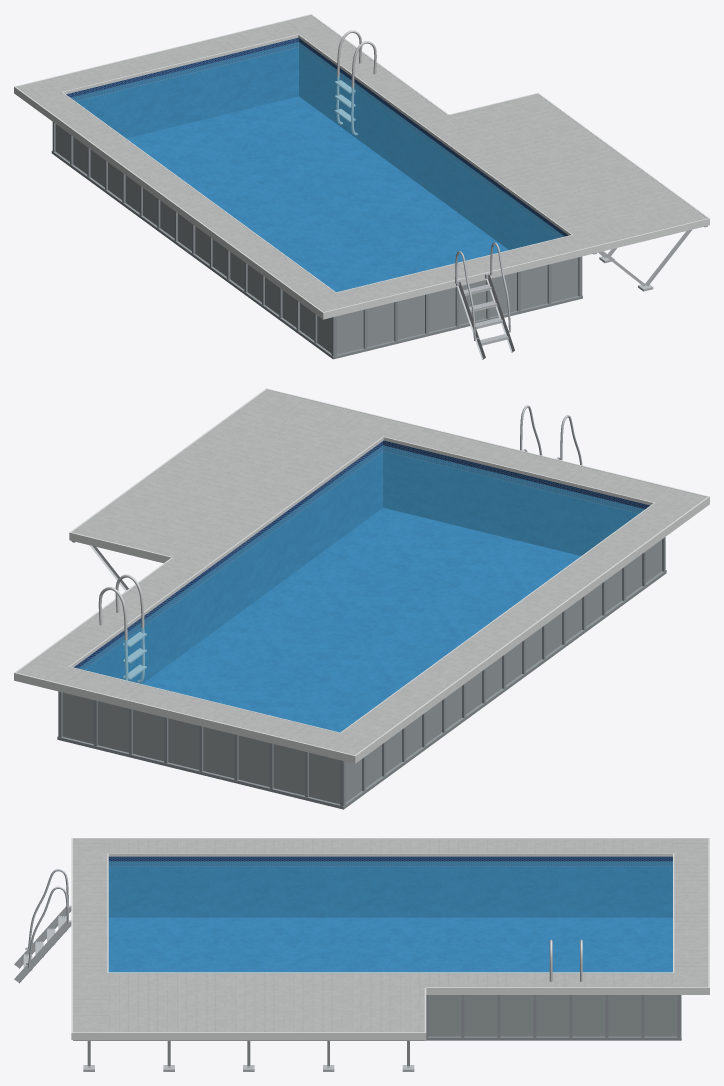
File: kayak-pool-16x32-gray-l-ag-nofence.f3d4decdc8.glb
3 views of the same model, one above another, from view 1: azimuth 30°, elevation 25°; view 2: azimuth 150°, elevation 25°; view 3: azimuth 270°, elevation 25° (orthographic). The views are drawn at different scales.
Visible parts, largest first — view 1: water, deck, liner_floor, liner_wall, wall, fascia, upright, ladder, steel, stud; view 2: water, deck, liner_floor, liner_wall, wall, fascia, upright, steel; view 3: water, deck, liner_wall, liner_floor, wall, fascia, upright, ladder, stud.
Part boxes in pixels (x1,y1,x2,y2): water: (71,42,564,292); deck: (16,15,707,311); liner_floor: (126,96,508,292); liner_wall: (66,37,568,249); wall: (55,124,578,354); fascia: (14,14,709,319); upright: (51,122,582,359); ladder: (455,242,514,359); steel: (334,30,376,135); stud: (593,226,707,291); water: (78,445,644,732); deck: (17,389,706,755); liner_floor: (142,508,580,732); liner_wall: (74,440,649,683); wall: (62,539,661,804); fascia: (14,388,709,763); upright: (57,537,666,809); steel: (98,574,146,682); water: (108,861,672,972); deck: (73,839,708,1032); liner_wall: (108,856,672,917); liner_floor: (108,917,672,972); wall: (428,995,677,1036); fascia: (71,838,709,1039); upright: (424,995,681,1040); ladder: (14,869,71,983); stud: (73,1040,424,1071).
Bounding box in the file's own units: 7.93 × 1.9 × 11.96.
Materials: 10 (3 with a texture image).
